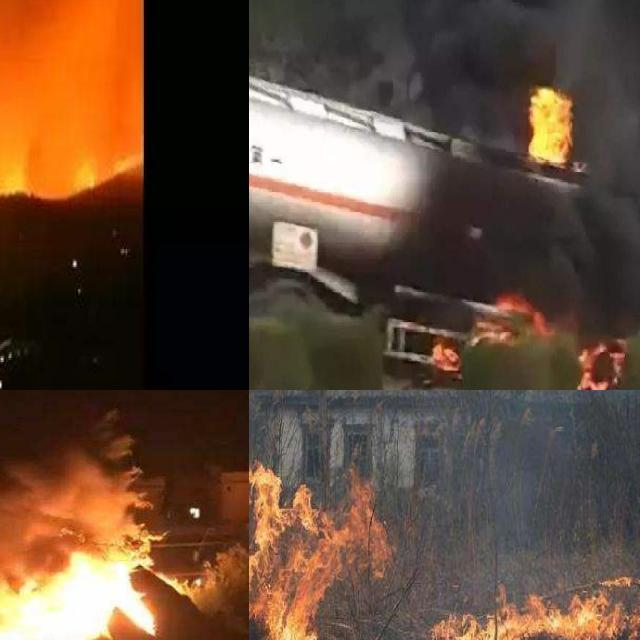fire: (249, 461, 393, 640), (428, 284, 625, 390), (428, 560, 640, 640), (0, 556, 179, 640), (524, 78, 579, 182), (0, 158, 30, 200), (73, 154, 95, 193)
smoke: (249, 0, 640, 284), (0, 0, 140, 148), (0, 447, 162, 563)
